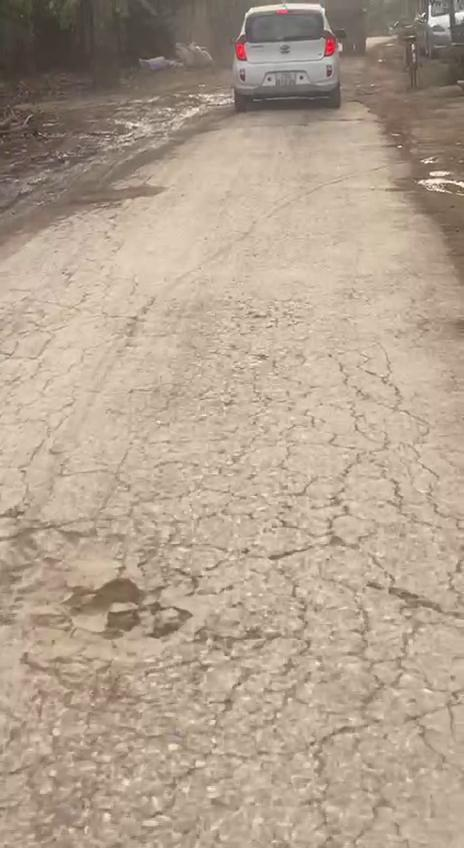pothole: (60, 571, 186, 641)
